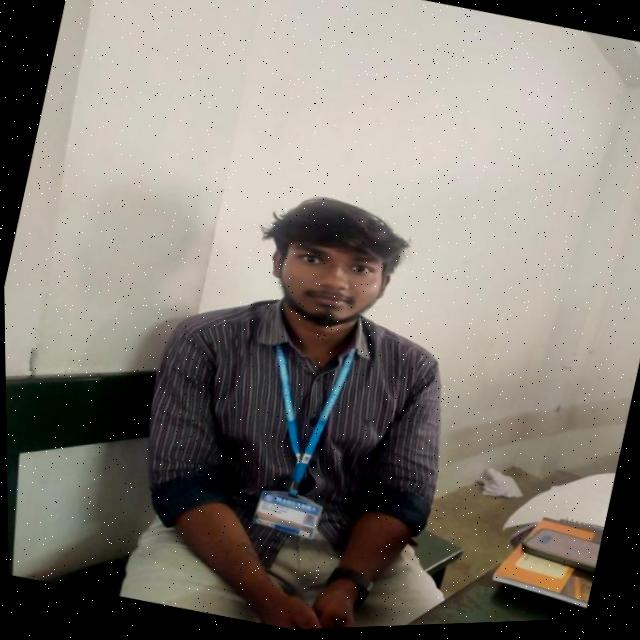id_card: (218, 317, 383, 556)
